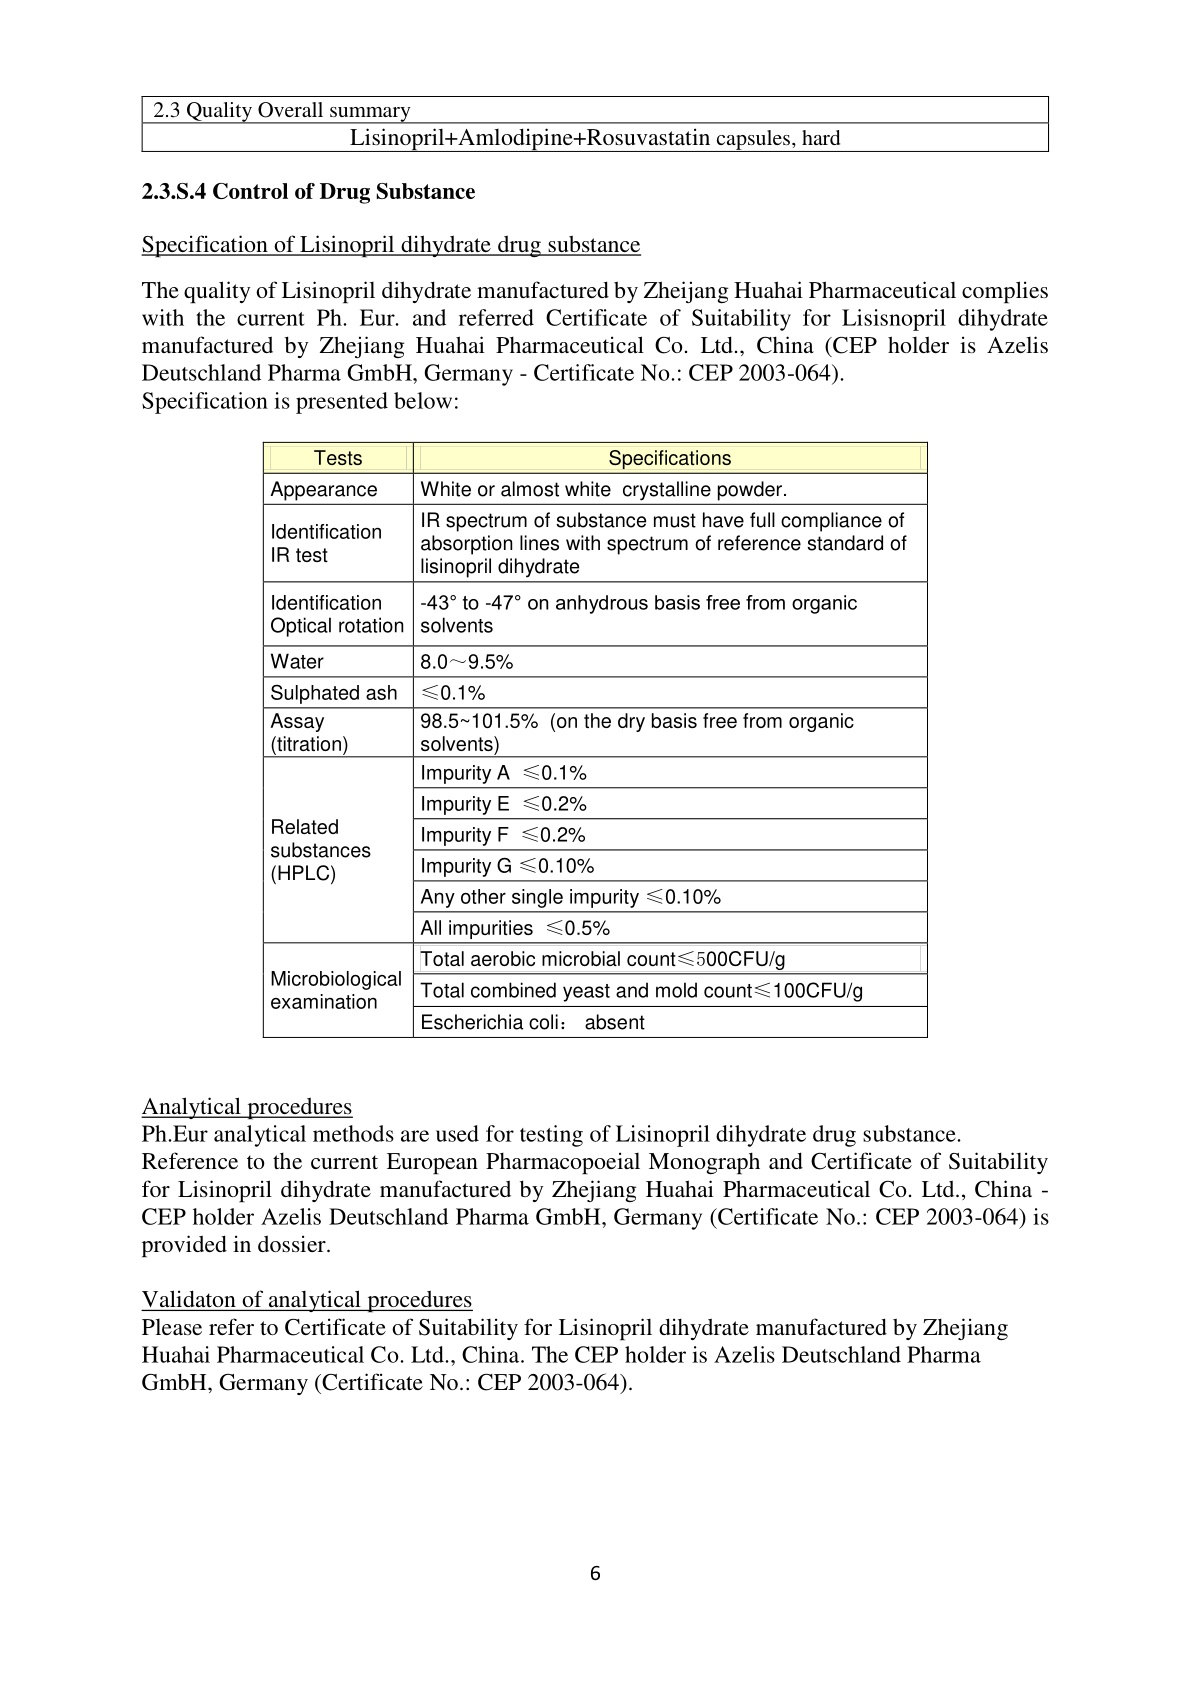full_lined: (262, 441, 929, 1038), (140, 97, 1051, 153)
